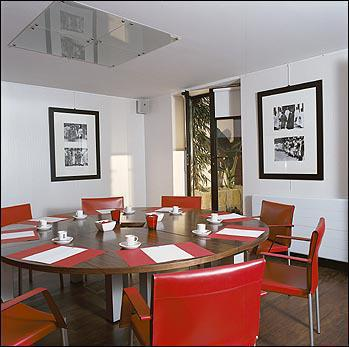Puerta: (185, 92, 243, 208)
